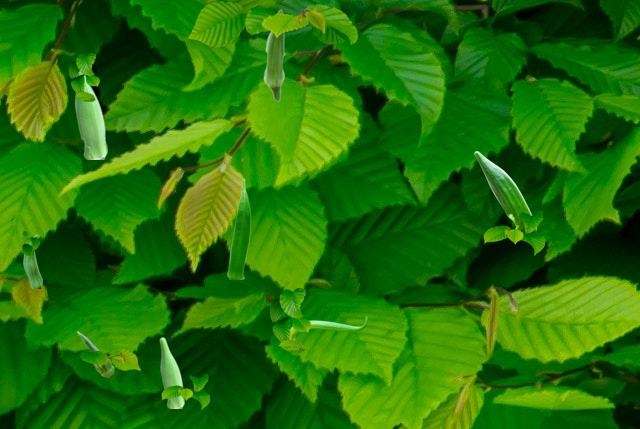okra: (474, 151, 532, 228), (74, 73, 106, 158), (227, 178, 250, 278), (263, 9, 284, 101), (290, 316, 366, 339), (159, 337, 183, 407), (77, 331, 113, 376), (23, 234, 41, 287)
